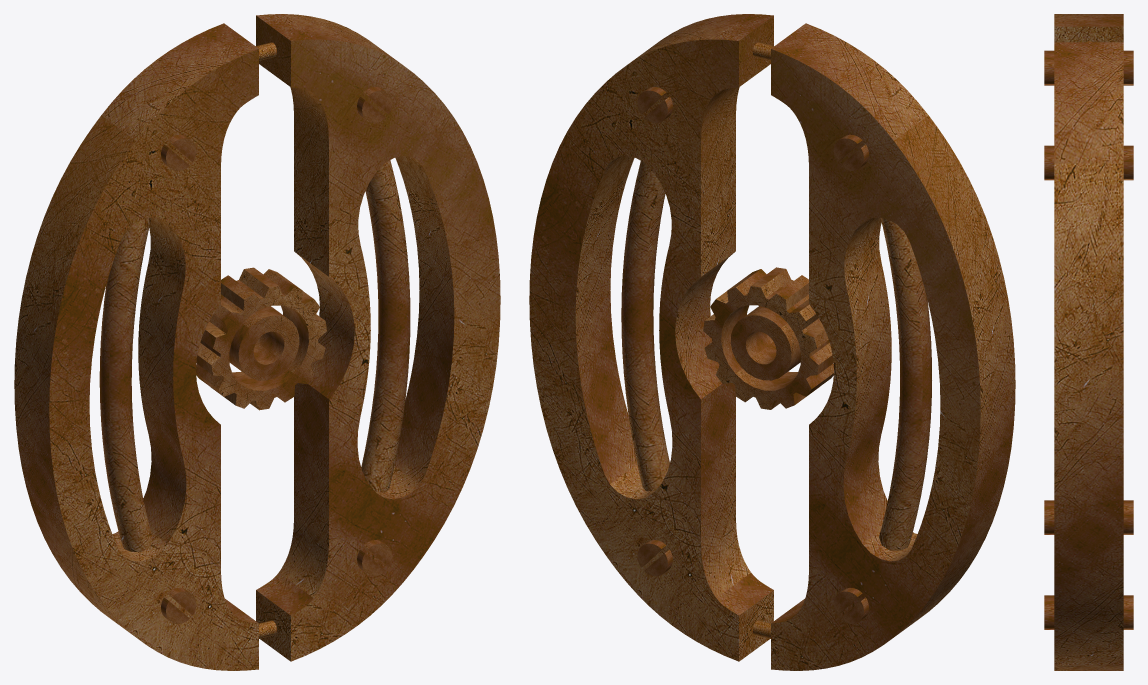
3 renders of one model, left to right at view 1: azimuth 30°, elevation 25°; view 2: azimuth 150°, elevation 25°; view 3: azimuth 270°, elevation 25°, orthographic.
Parts seen in each view (by area): view 1: 029, Cogwheel_375, Tube_588, Tube_698, Screw_719, Screw_715, Screw_700, Screw_701; view 2: 029, Cogwheel_375, Tube_588, Tube_698, Screw_719, Screw_715, Screw_700, Screw_701; view 3: 029, Screw_700, Screw_715, Screw_719, Screw_701.
Boxes of the visible parts, x1,y1,x2,y2 form: 029: (14,14,500,670); Cogwheel_375: (196,267,326,410); Tube_588: (99,217,152,552); Tube_698: (361,160,410,492); Screw_719: (357,540,392,576); Screw_715: (357,87,392,123); Screw_700: (161,134,196,170); Screw_701: (161,588,196,623); 029: (529,14,1015,670); Cogwheel_375: (703,267,833,409); Tube_588: (879,218,931,550); Tube_698: (621,161,669,491); Screw_719: (637,540,672,576); Screw_715: (637,87,672,123); Screw_700: (833,134,868,170); Screw_701: (833,588,868,623); 029: (1054,14,1123,670); Screw_700: (1044,50,1133,85); Screw_715: (1044,145,1133,180); Screw_719: (1044,595,1133,629); Screw_701: (1044,500,1133,534).
Bounding box in the file's own units: 74.63 × 98.09 × 12.89.
Materials: 1 (1 with a texture image).
